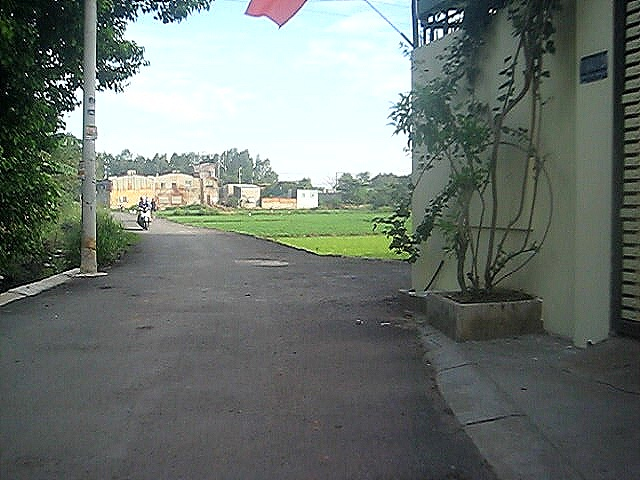hole: (231, 259, 290, 267)
